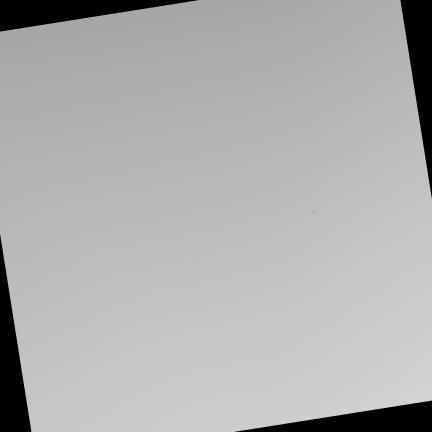Shahed: (313, 210, 315, 213)
